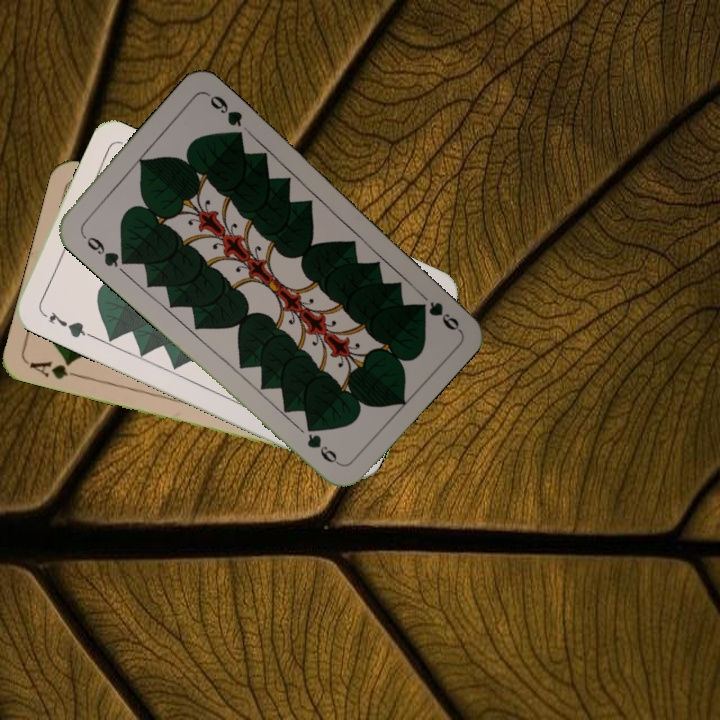G7: (37, 307, 93, 341)
G9: (77, 229, 130, 271), (425, 297, 462, 333)
GA: (25, 356, 84, 382)
